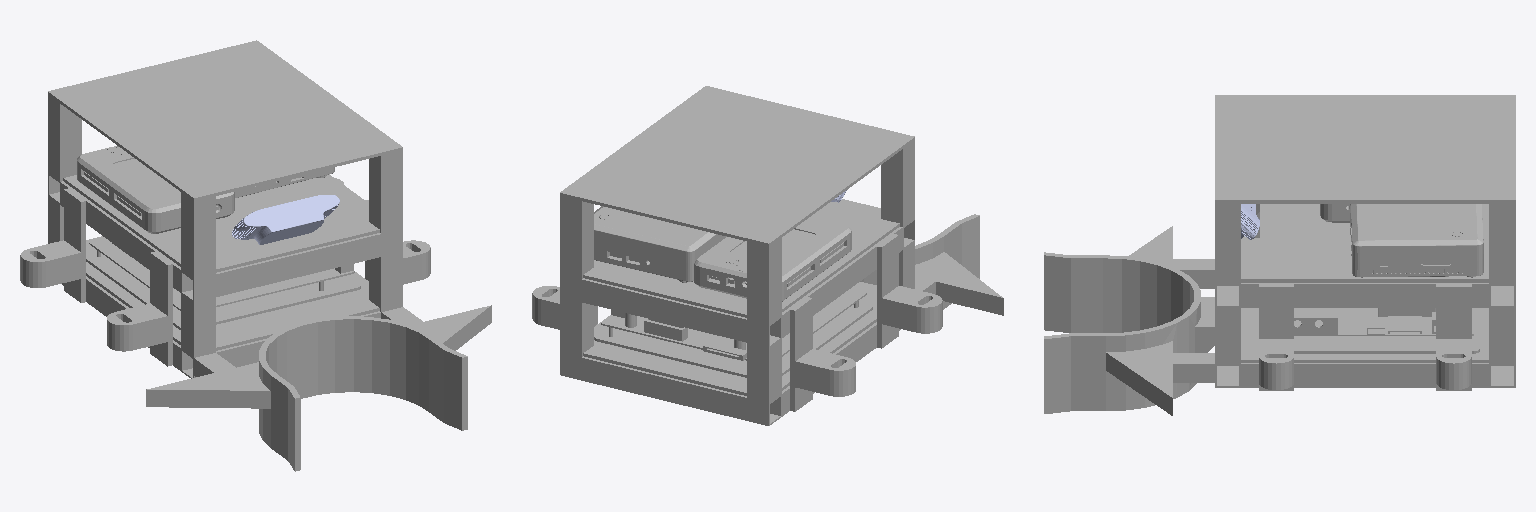
The robot description file, URDF, robot "lide":
<?xml version="1.0" encoding="utf-8"?>
<!-- This URDF was automatically created by SolidWorks to URDF Exporter! Originally created by [author] ([email redacted]) 
     Commit Version: 1.5.1-0-g916b5db  Build Version: 1.5.7152.31018
     For more information, please see http://wiki.ros.org/sw_urdf_exporter -->
<robot
  name="lide">
  <link
    name="base_link">
    <inertial>
      <origin
        xyz="0.106843180359561 0.070180782841656 -0.118895830220823"
        rpy="0 0 0" />
      <mass
        value="2.99191239326413" />
      <inertia
        ixx="0.00577434141810587"
        ixy="-4.20907186191921E-07"
        ixz="-3.47527459967526E-07"
        iyy="0.011550734226256"
        iyz="1.73717670313716E-05"
        izz="0.00655109006219454" />
    </inertial>
    <visual>
      <origin
        xyz="0 0 0"
        rpy="0 0 0" />
      <geometry>
        <mesh
          filename="package://lide/meshes/base_link.STL" />
      </geometry>
      <material
        name="">
        <color
          rgba="0.752941176470588 0.752941176470588 0.752941176470588 1" />
      </material>
    </visual>
    <collision>
      <origin
        xyz="0 0 0"
        rpy="0 0 0" />
      <geometry>
        <mesh
          filename="package://lide/meshes/base_link.STL" />
      </geometry>
    </collision>
  </link>
  <link
    name="LFS">
    <inertial>
      <origin
        xyz="0.0455604268709419 0.00830943309140331 0.00297622851896683"
        rpy="0 0 0" />
      <mass
        value="0.0727928435161986" />
      <inertia
        ixx="2.20927876796312E-05"
        ixy="-1.64845302056395E-08"
        ixz="-1.56454773175215E-07"
        iyy="1.62632133784213E-05"
        iyz="2.96411876511187E-09"
        izz="1.80843397531752E-05" />
    </inertial>
    <visual>
      <origin
        xyz="0 0 0"
        rpy="0 0 0" />
      <geometry>
        <mesh
          filename="package://lide/meshes/LFS.STL" />
      </geometry>
      <material
        name="">
        <color
          rgba="0.752941176470588 0.752941176470588 0.752941176470588 1" />
      </material>
    </visual>
    <collision>
      <origin
        xyz="0 0 0"
        rpy="0 0 0" />
      <geometry>
        <mesh
          filename="package://lide/meshes/LFS.STL" />
      </geometry>
    </collision>
  </link>
  <joint
    name="LFS"
    type="fixed">
    <origin
      xyz="0.204406433684605 0.0540436140506676 -0.0145027479853973"
      rpy="1.5707963267949 0 0" />
    <parent
      link="base_link" />
    <child
      link="LFS" />
    <axis
      xyz="0 0 0" />
  </joint>
  <link
    name="LFW">
    <inertial>
      <origin
        xyz="0.015 0 3.46944695195361E-18"
        rpy="0 0 0" />
      <mass
        value="0.767080911081153" />
      <inertia
        ixx="0.00116426102407189"
        ixy="4.45758864315272E-22"
        ixz="-1.82994146746971E-20"
        iyy="0.000639661580367031"
        iyz="-1.35525271560688E-20"
        izz="0.000639661580367032" />
    </inertial>
    <visual>
      <origin
        xyz="0 0 0"
        rpy="0 0 0" />
      <geometry>
        <mesh
          filename="package://lide/meshes/LFW.STL" />
      </geometry>
      <material
        name="">
        <color
          rgba="0.898039215686275 0.917647058823529 0.929411764705882 1" />
      </material>
    </visual>
    <collision>
      <origin
        xyz="0 0 0"
        rpy="0 0 0" />
      <geometry>
        <mesh
          filename="package://lide/meshes/LFW.STL" />
      </geometry>
    </collision>
  </link>
  <joint
    name="LFW"
    type="continuous">
    <origin
      xyz="0.0633463599631527 -0.00679803845222953 0.0150436140506676"
      rpy="-1.62639053095063 0 0" />
    <parent
      link="LFS" />
    <child
      link="LFW" />
    <axis
      xyz="1 0 0" />
    <limit
      effort="3.1"
      velocity="7" />
  </joint>
  <link
    name="RFS">
    <inertial>
      <origin
        xyz="-0.0191828308457407 -0.00900932874707057 0.0520056318885905"
        rpy="0 0 0" />
      <mass
        value="0.0727928435161986" />
      <inertia
        ixx="2.20927876796313E-05"
        ixy="-1.64845302056318E-08"
        ixz="1.56454773175213E-07"
        iyy="1.62632133784213E-05"
        iyz="-2.96411876510415E-09"
        izz="1.80843397531752E-05" />
    </inertial>
    <visual>
      <origin
        xyz="0 0 0"
        rpy="0 0 0" />
      <geometry>
        <mesh
          filename="package://lide/meshes/RFS.STL" />
      </geometry>
      <material
        name="">
        <color
          rgba="0.752941176470588 0.752941176470588 0.752941176470588 1" />
      </material>
    </visual>
    <collision>
      <origin
        xyz="0 0 0"
        rpy="0 0 0" />
      <geometry>
        <mesh
          filename="package://lide/meshes/RFS.STL" />
      </geometry>
    </collision>
  </link>
  <joint
    name="RFS"
    type="fixed">
    <origin
      xyz="-0.0207840297098062 0.103073017420291 0.00278439186905151"
      rpy="1.5707963267949 0 0" />
    <parent
      link="base_link" />
    <child
      link="RFS" />
    <axis
      xyz="0 0 0" />
  </joint>
  <link
    name="RFW">
    <inertial>
      <origin
        xyz="-0.015 0 0"
        rpy="0 0 0" />
      <mass
        value="0.767080911081152" />
      <inertia
        ixx="0.00116426102407189"
        ixy="-1.2315168370675E-36"
        ixz="0"
        iyy="0.000639661580367031"
        iyz="8.00462841683584E-39"
        izz="0.000639661580367031" />
    </inertial>
    <visual>
      <origin
        xyz="0 0 0"
        rpy="0 0 0" />
      <geometry>
        <mesh
          filename="package://lide/meshes/RFW.STL" />
      </geometry>
      <material
        name="">
        <color
          rgba="0.898039215686275 0.917647058823529 0.929411764705882 1" />
      </material>
    </visual>
    <collision>
      <origin
        xyz="0 0 0"
        rpy="0 0 0" />
      <geometry>
        <mesh
          filename="package://lide/meshes/RFW.STL" />
      </geometry>
    </collision>
  </link>
  <joint
    name="RFW"
    type="continuous">
    <origin
      xyz="-0.0369687639379516 -0.0240836054314246 0.0640730174202912"
      rpy="0 0 0" />
    <parent
      link="RFS" />
    <child
      link="RFW" />
    <axis
      xyz="1 0 0" />
    <limit
      effort="3.1"
      velocity="7" />
  </joint>
  <link
    name="LBS">
    <inertial>
      <origin
        xyz="-3.54143714353938E-10 -0.0259601646992602 -8.55974152669248E-10"
        rpy="0 0 0" />
      <mass
        value="0.109625704314989" />
      <inertia
        ixx="9.47070510683515E-05"
        ixy="-7.13314131943574E-13"
        ixz="1.3631850496113E-13"
        iyy="7.1990527735735E-05"
        iyz="-4.59244589930395E-12"
        izz="9.47424928023496E-05" />
    </inertial>
    <visual>
      <origin
        xyz="0 0 0"
        rpy="0 0 0" />
      <geometry>
        <mesh
          filename="package://lide/meshes/LBS.STL" />
      </geometry>
      <material
        name="">
        <color
          rgba="0.898039215686275 0.917647058823529 0.929411764705882 1" />
      </material>
    </visual>
    <collision>
      <origin
        xyz="0 0 0"
        rpy="0 0 0" />
      <geometry>
        <mesh
          filename="package://lide/meshes/LBS.STL" />
      </geometry>
    </collision>
  </link>
  <joint
    name="LBS"
    type="fixed">
    <origin
      xyz="0.250002793647758 0.201999999999999 0.00877423729812917"
      rpy="1.5707963267949 0 0" />
    <parent
      link="base_link" />
    <child
      link="LBS" />
    <axis
      xyz="0 0 0" />
  </joint>
  <link
    name="LBW">
    <inertial>
      <origin
        xyz="-6.93889390390723E-18 6.67409058084933E-05 -2.77555756156289E-17"
        rpy="0 0 0" />
      <mass
        value="0.303329317514427" />
      <inertia
        ixx="0.0001093198860322"
        ixy="1.17108889725839E-37"
        ixz="0"
        iyy="0.000109926544667228"
        iyz="-3.95643608811853E-38"
        izz="0.0001093198860322" />
    </inertial>
    <visual>
      <origin
        xyz="0 0 0"
        rpy="0 0 0" />
      <geometry>
        <mesh
          filename="package://lide/meshes/LBW.STL" />
      </geometry>
      <material
        name="">
        <color
          rgba="0.898039215686275 0.917647058823529 0.929411764705882 1" />
      </material>
    </visual>
    <collision>
      <origin
        xyz="0 0 0"
        rpy="0 0 0" />
      <geometry>
        <mesh
          filename="package://lide/meshes/LBW.STL" />
      </geometry>
    </collision>
  </link>
  <joint
    name="LBW"
    type="continuous">
    <origin
      xyz="0 -0.055074 0"
      rpy="0 -0.31141 -1.5708" />
    <parent
      link="LBS" />
    <child
      link="LBW" />
    <axis
      xyz="0 1 0" />
  </joint>
  <link
    name="RBS">
    <inertial>
      <origin
        xyz="-3.54143658842787E-10 -0.0259601646992602 -8.55974152669248E-10"
        rpy="0 0 0" />
      <mass
        value="0.10962570431499" />
      <inertia
        ixx="9.47070510683515E-05"
        ixy="-7.13314095114351E-13"
        ixz="1.36318500444295E-13"
        iyy="7.19905277357352E-05"
        iyz="-4.59244589990245E-12"
        izz="9.47424928023499E-05" />
    </inertial>
    <visual>
      <origin
        xyz="0 0 0"
        rpy="0 0 0" />
      <geometry>
        <mesh
          filename="package://lide/meshes/RBS.STL" />
      </geometry>
      <material
        name="">
        <color
          rgba="0.898039215686275 0.917647058823529 0.929411764705882 1" />
      </material>
    </visual>
    <collision>
      <origin
        xyz="0 0 0"
        rpy="0 0 0" />
      <geometry>
        <mesh
          filename="package://lide/meshes/RBS.STL" />
      </geometry>
    </collision>
  </link>
  <joint
    name="RBS"
    type="fixed">
    <origin
      xyz="-0.0400027936477574 0.201999999999999 0.00877423729812904"
      rpy="1.5707963267949 0 0" />
    <parent
      link="base_link" />
    <child
      link="RBS" />
    <axis
      xyz="0 0 0" />
  </joint>
  <link
    name="RBW">
    <inertial>
      <origin
        xyz="6.93889390390723E-18 -6.93889390390723E-18 -2.77555756156289E-17"
        rpy="0 0 0" />
      <mass
        value="0.303329317514427" />
      <inertia
        ixx="0.0001093198860322"
        ixy="3.09723775777832E-39"
        ixz="7.04182919818751E-41"
        iyy="0.000109926544667228"
        iyz="1.94881499106946E-40"
        izz="0.0001093198860322" />
    </inertial>
    <visual>
      <origin
        xyz="0 0 0"
        rpy="0 0 0" />
      <geometry>
        <mesh
          filename="package://lide/meshes/RBW.STL" />
      </geometry>
      <material
        name="">
        <color
          rgba="0.898039215686275 0.917647058823529 0.929411764705882 1" />
      </material>
    </visual>
    <collision>
      <origin
        xyz="0 0 0"
        rpy="0 0 0" />
      <geometry>
        <mesh
          filename="package://lide/meshes/RBW.STL" />
      </geometry>
    </collision>
  </link>
  <joint
    name="RBW"
    type="continuous">
    <origin
      xyz="0 -0.055074 0"
      rpy="0 0 -1.5708" />
    <parent
      link="RBS" />
    <child
      link="RBW" />
    <axis
      xyz="0 1 0" />
  </joint>
  <link
    name="fcam">
    <inertial>
      <origin
        xyz="-0.0115544748364736 -2.64465387675439E-06 0.00129029247135962"
        rpy="0 0 0" />
      <mass
        value="0.0436119959942911" />
      <inertia
        ixx="2.35707065122405E-05"
        ixy="-1.01829059070973E-09"
        ixz="2.17588141159288E-08"
        iyy="4.29479081637285E-06"
        iyz="-8.85096908086357E-10"
        izz="2.2105815376411E-05" />
    </inertial>
    <visual>
      <origin
        xyz="0 0 0"
        rpy="0 0 0" />
      <geometry>
        <mesh
          filename="package://lide/meshes/fcam.STL" />
      </geometry>
      <material
        name="">
        <color
          rgba="0.792156862745098 0.819607843137255 0.933333333333333 1" />
      </material>
    </visual>
    <collision>
      <origin
        xyz="0 0 0"
        rpy="0 0 0" />
      <geometry>
        <mesh
          filename="package://lide/meshes/fcam.STL" />
      </geometry>
    </collision>
  </link>
  <joint
    name="fcam"
    type="fixed">
    <origin
      xyz="0.105 0.0013073 0.15514"
      rpy="0 0.087266 -1.5708" />
    <parent
      link="base_link" />
    <child
      link="fcam" />
    <axis
      xyz="0 0 0" />
  </joint>
  <link
    name="bcam">
    <inertial>
      <origin
        xyz="0.0498359970623517 0.061783635489965 0.0687226594771382"
        rpy="0 0 0" />
      <mass
        value="0.0436119949785286" />
      <inertia
        ixx="4.29479078276665E-06"
        ixy="-8.85484503962038E-10"
        ixz="-1.01834758005622E-09"
        iyy="2.21058144654638E-05"
        iyz="2.17579332532723E-08"
        izz="2.357070560996E-05" />
    </inertial>
    <visual>
      <origin
        xyz="0 0 0"
        rpy="0 0 0" />
      <geometry>
        <mesh
          filename="package://lide/meshes/bcam.STL" />
      </geometry>
      <material
        name="">
        <color
          rgba="0.792156862745098 0.819607843137255 0.933333333333333 1" />
      </material>
    </visual>
    <collision>
      <origin
        xyz="0 0 0"
        rpy="0 0 0" />
      <geometry>
        <mesh
          filename="package://lide/meshes/bcam.STL" />
      </geometry>
    </collision>
  </link>
  <joint
    name="bcam"
    type="fixed">
    <origin
      xyz="0.055161 0.11163 0.12722"
      rpy="2.3562 0 0" />
    <parent
      link="base_link" />
    <child
      link="bcam" />
    <axis
      xyz="0 0 0" />
  </joint>
  <link
    name="Lidar">
    <inertial>
      <origin
        xyz="0.0135233595886409 0.000461955982206302 -0.028764885495051"
        rpy="0 0 0" />
      <mass
        value="0.0730845717569496" />
      <inertia
        ixx="1.95808757419765E-05"
        ixy="-1.03933585736234E-07"
        ixz="-4.28391168396099E-07"
        iyy="2.41250079666672E-05"
        iyz="9.42710206434145E-09"
        izz="4.14184516368183E-05" />
    </inertial>
    <visual>
      <origin
        xyz="0 0 0"
        rpy="0 0 0" />
      <geometry>
        <mesh
          filename="package://lide/meshes/Lidar.STL" />
      </geometry>
      <material
        name="">
        <color
          rgba="0.792156862745098 0.819607843137255 0.933333333333333 1" />
      </material>
    </visual>
    <collision>
      <origin
        xyz="0 0 0"
        rpy="0 0 0" />
      <geometry>
        <mesh
          filename="package://lide/meshes/Lidar.STL" />
      </geometry>
    </collision>
  </link>
  <joint
    name="Lidar"
    type="fixed">
    <origin
      xyz="0.10401 0.19458 0.2285"
      rpy="0 0 -1.5708" />
    <parent
      link="base_link" />
    <child
      link="Lidar" />
    <axis
      xyz="0 0 0" />
  </joint>
  <link
    name="imu_link">
    <inertial>
      <origin
        xyz="0.00385022026093959 6.23984008056161E-05 -0.00103377575234337"
        rpy="0 0 0" />
      <mass
        value="0.00189180567975737" />
      <inertia
        ixx="7.79431263454135E-08"
        ixy="1.39214190556514E-10"
        ixz="1.54511633252899E-11"
        iyy="4.85473464623125E-08"
        iyz="-6.30099051334897E-11"
        izz="1.25233585370532E-07" />
    </inertial>
    <visual>
      <origin
        xyz="0 0 0"
        rpy="0 0 0" />
      <geometry>
        <mesh
          filename="package://lide/meshes/imu_link.STL" />
      </geometry>
      <material
        name="">
        <color
          rgba="0.898039215686275 0.917647058823529 0.929411764705882 1" />
      </material>
    </visual>
    <collision>
      <origin
        xyz="0 0 0"
        rpy="0 0 0" />
      <geometry>
        <mesh
          filename="package://lide/meshes/imu_link.STL" />
      </geometry>
    </collision>
  </link>
  <joint
    name="imu_link"
    type="fixed">
    <origin
      xyz="0.105 0.039 0.177"
      rpy="0 0 -1.5708" />
    <parent
      link="base_link" />
    <child
      link="imu_link" />
    <axis
      xyz="0 0 0" />
  </joint>
</robot>

--- What the picture shows (computed from the rendered views, not written in the file) ---
Views: 3 orthographic renders of the robot side by side, from view 1: azimuth 30°, elevation 25°; view 2: azimuth 150°, elevation 25°; view 3: azimuth 270°, elevation 25°.
Robot: lide — 13 links, 12 joints (4 continuous, 8 fixed); root link base_link; default pose: every joint at zero.
Visible links, largest first — view 1: base_link, bcam; view 2: base_link; view 3: base_link, bcam.
Link boxes in pixels (x1=…): base_link: x1=20, y1=40, x2=491, y2=471; bcam: x1=232, y1=195, x2=339, y2=244; base_link: x1=532, y1=86, x2=1003, y2=425; base_link: x1=1044, y1=95, x2=1515, y2=415; bcam: x1=1241, y1=204, x2=1259, y2=239.
Size in the robot's own frame: 0.346 by 0.398 by 0.208 metres.
Meshes: 13 distinct files referenced, 2 mesh visuals loaded (2 binary STL); not drawn: 11 (reference not matched to a file when rendering).